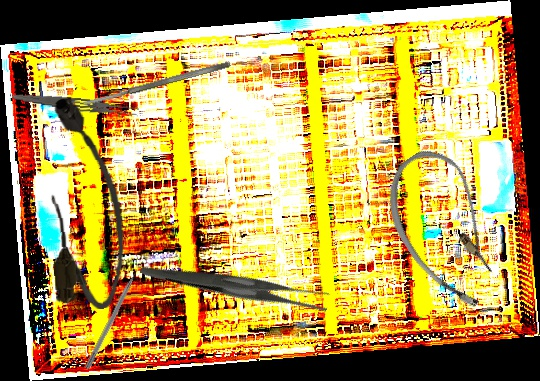Cannula: (366, 137, 528, 321), (42, 94, 129, 312)
Dressing Forceps: (139, 210, 334, 358), (11, 91, 140, 119)
Pusher: (84, 260, 145, 371)
Spatula Surgical: (80, 60, 232, 108)
